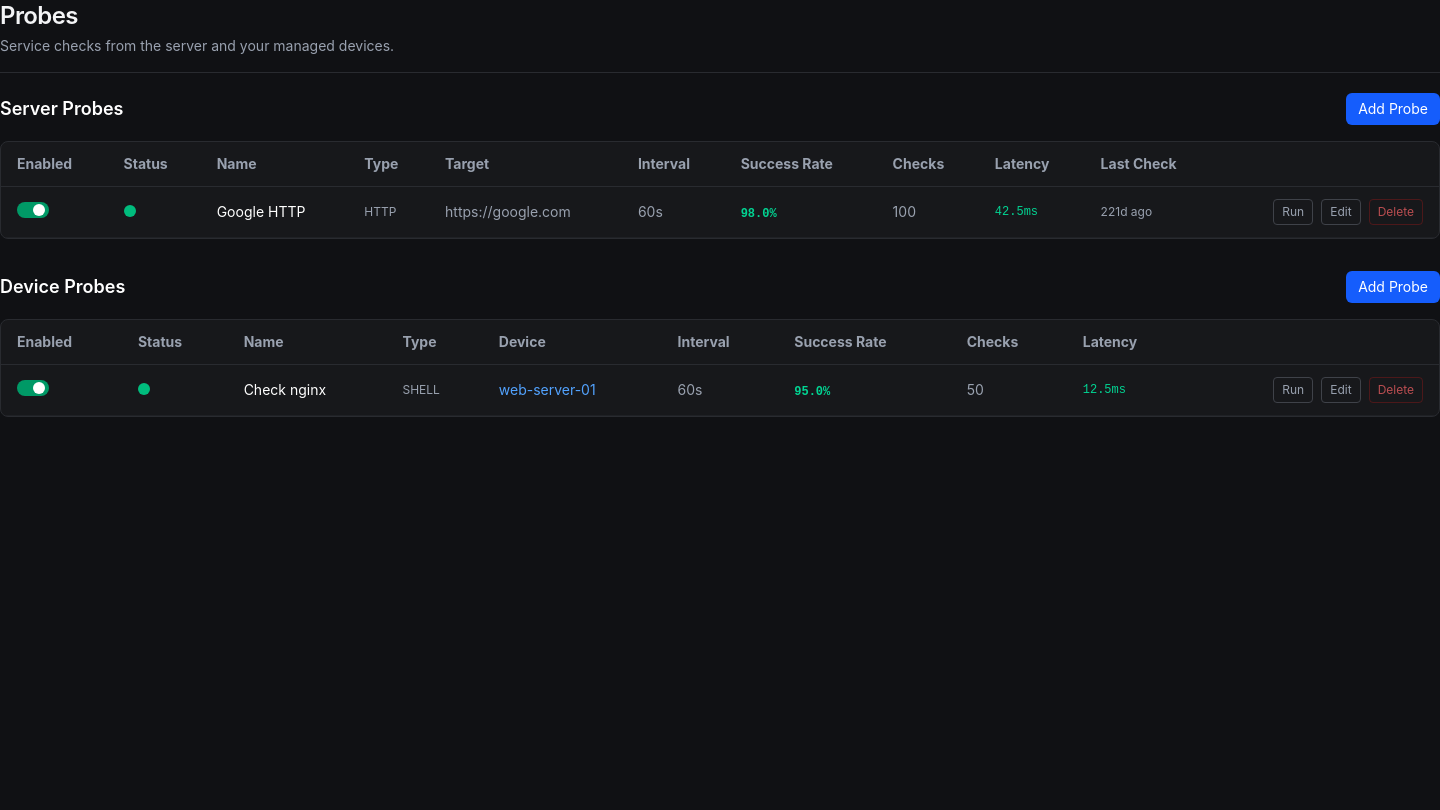
Test: [UIF AC-066] delete server probe confirms and toasts › shows the failure inline and raises no success toast when the delete fails
Expected: the link "Google HTTP" is shown, [217,203,305,220]
Click the button "Delete" in the row of "Google HTTP".
click(1396, 212)  # box [1369,199,1423,225]
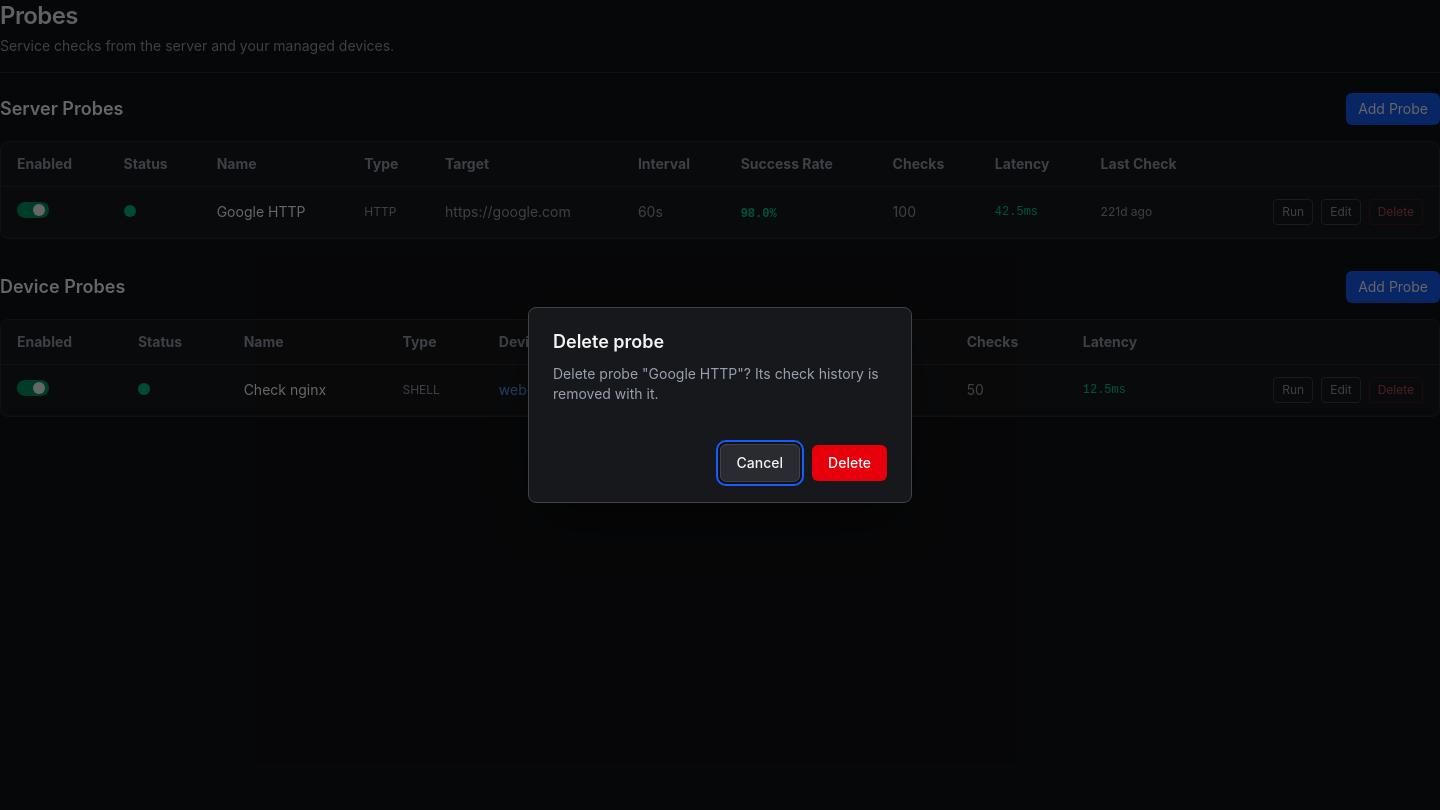
Click the button "Delete".
click(850, 463)  # box [812,445,887,481]
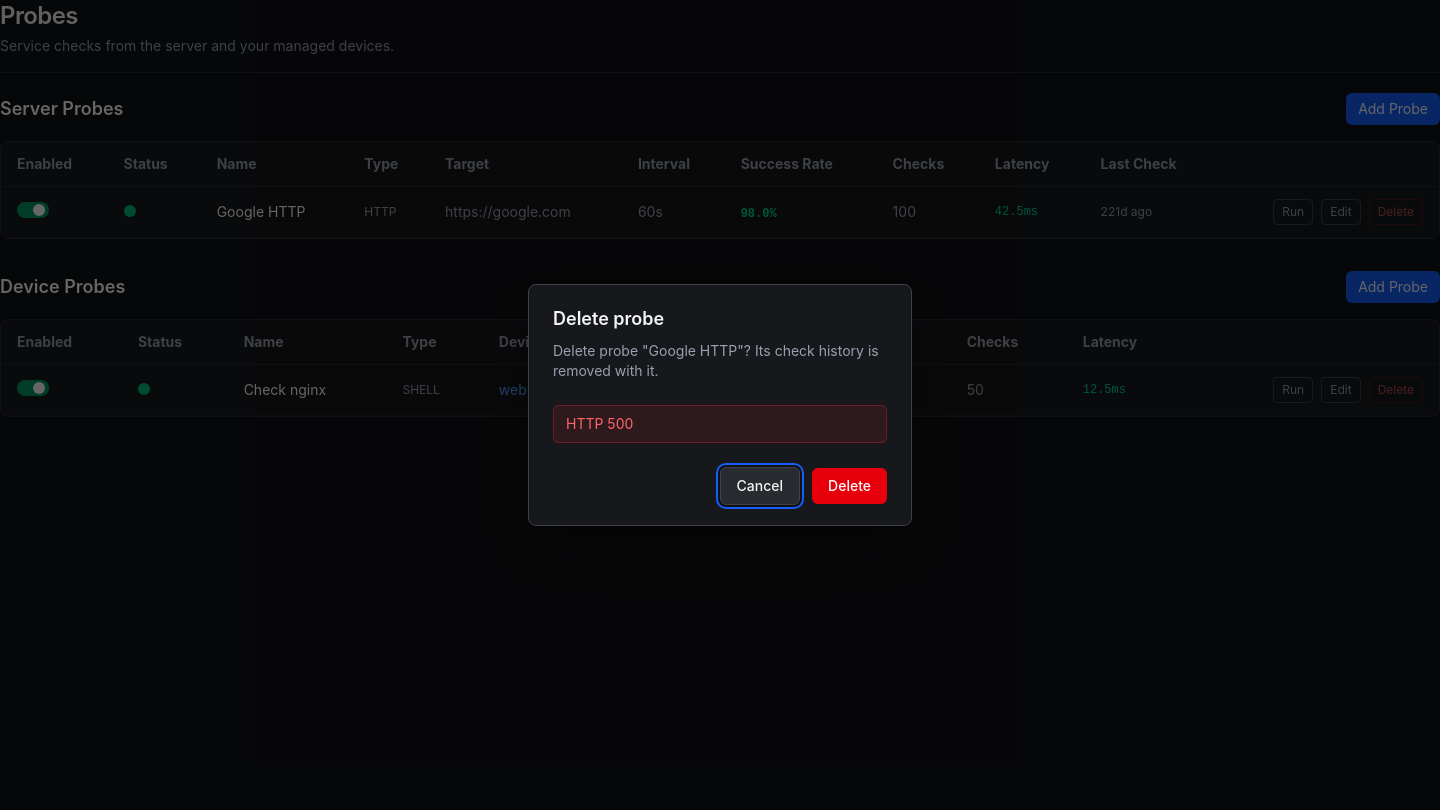
Result: the message reads "HTTP 500" at [566,415,633,432]
